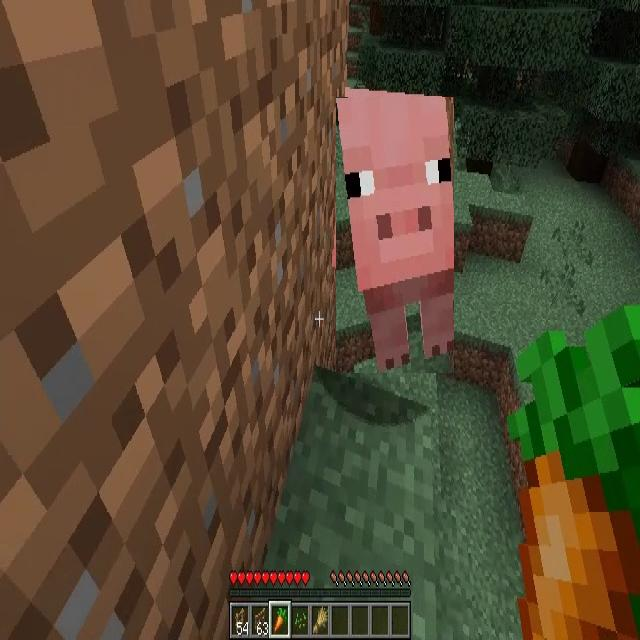pig: (336, 97, 454, 373)
